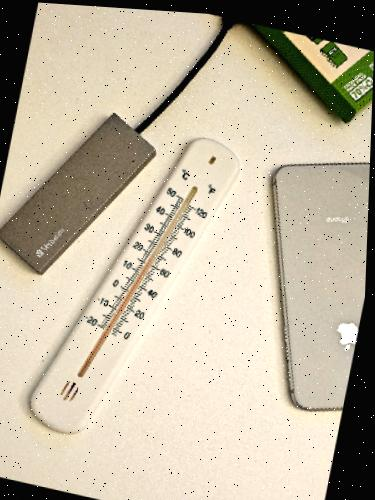thermo: (26, 130, 247, 439)
